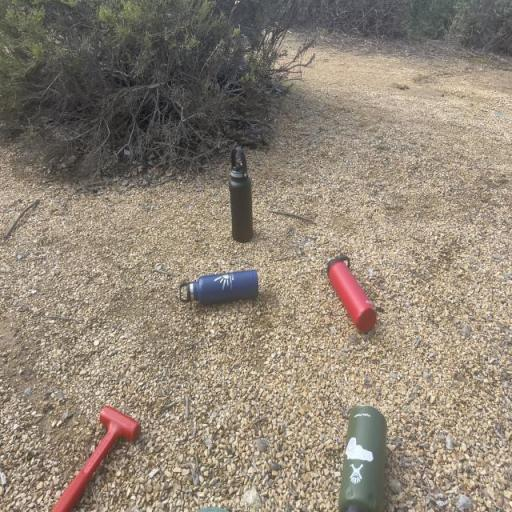bottle: (338, 398, 391, 512), (324, 252, 378, 338), (178, 262, 262, 309), (224, 145, 258, 253)
mallet: (41, 407, 141, 511)
